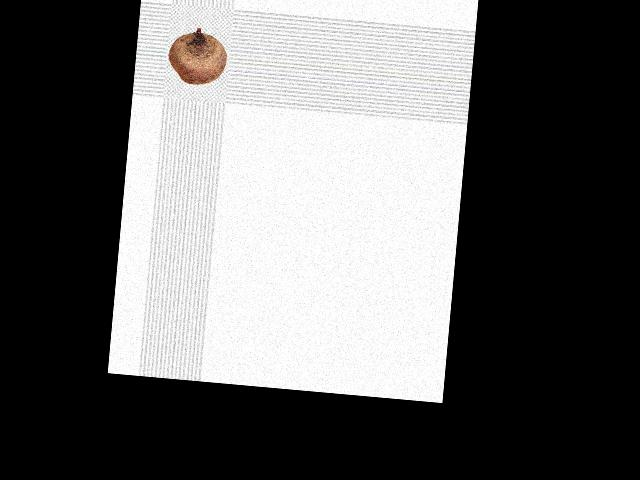beet: (166, 24, 228, 86)
